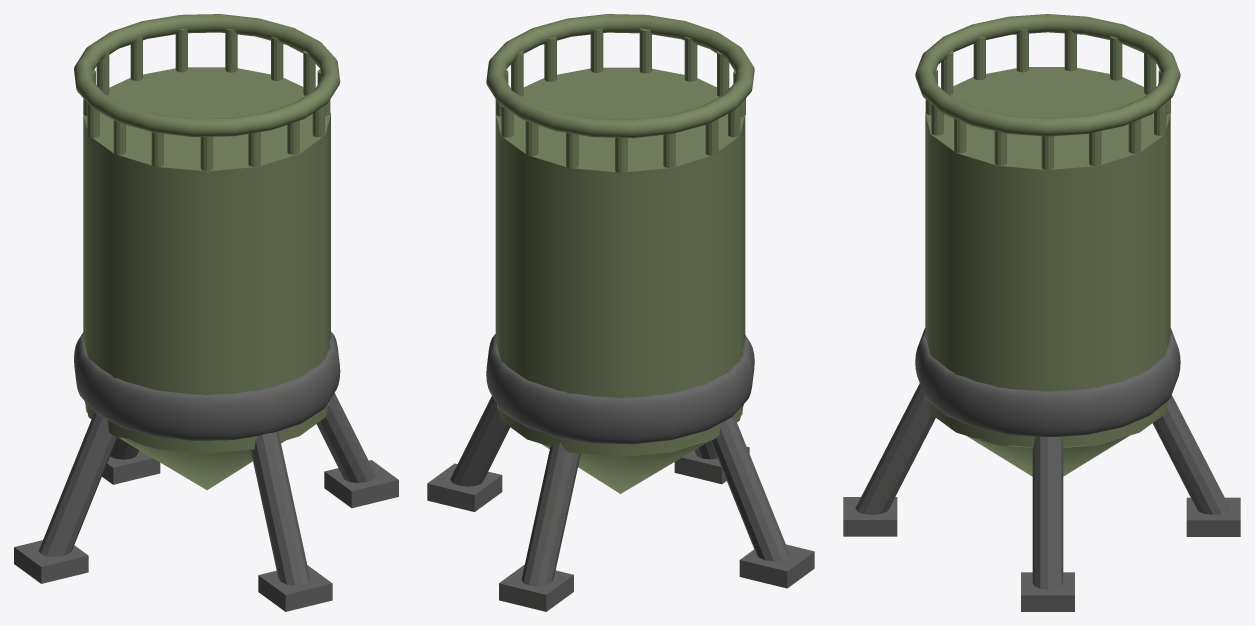
The model's file is sailo.fbx.
The picture shows the model from 3 angles, left to right: view 1: azimuth 30°, elevation 25°; view 2: azimuth 150°, elevation 25°; view 3: azimuth 270°, elevation 25°; orthographic projection.
Parts seen in each view (by area): view 1: pCylinder1, pTorus2, pTorus1, pCylinder19, pCylinder20, pCone1, pCylinder17, pCube4, pCube3, pCube1, pCube2, pCylinder4 (+3 smaller); view 2: pCylinder1, pTorus2, pTorus1, pCylinder20, pCylinder18, pCone1, pCylinder17, pCube3, pCube1, pCube2, pCube4, pCylinder15 (+3 smaller); view 3: pCylinder1, pTorus2, pTorus1, pCylinder17, pCylinder19, pCylinder18, pCone1, pCube1, pCube2, pCube4, pCylinder10, pCylinder8.
Boxes of the visible parts, x1,y1,x2,y2 form: pCylinder1: (83,67,330,453); pTorus2: (74,331,340,440); pTorus1: (74,14,340,137); pCylinder19: (250,431,310,585); pCylinder20: (39,412,117,556); pCone1: (85,402,329,489); pCylinder17: (316,393,375,482); pCube4: (258,565,332,611); pCube3: (14,540,88,583); pCube1: (324,460,398,508); pCube2: (102,450,160,484); pCylinder4: (225,28,237,72); pCylinder1: (495,67,745,456); pTorus2: (486,334,754,444); pTorus1: (486,14,754,138); pCylinder20: (710,415,789,561); pCylinder18: (521,442,580,586); pCone1: (497,405,742,493); pCylinder17: (450,396,510,486); pCube3: (739,544,814,588); pCube1: (427,463,502,511); pCube2: (499,564,573,611); pCube4: (674,446,749,484); pCylinder15: (590,28,603,72); pCylinder1: (925,67,1170,448); pTorus2: (915,328,1180,436); pTorus1: (915,14,1180,136); pCylinder17: (1032,436,1063,589); pCylinder19: (855,383,935,514); pCylinder18: (1152,395,1230,514); pCone1: (967,436,1128,476); pCube1: (1021,572,1074,611); pCube2: (1186,497,1240,536); pCube4: (843,497,897,536); pCylinder10: (1016,29,1028,72); pCylinder8: (1110,36,1122,80).
Bounding box in the file's own units: 13.25 × 16.42 × 12.88.
